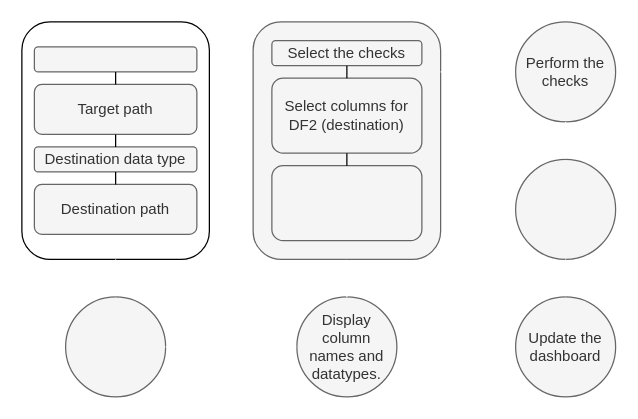
This 638x419 diagram has some shape labels left out. The centre of each missing label's shape, as x and y in pixels:
"Capture the output logs" goes at (565,208).
"Select columns for DF1 (source)" goes at (346,202).
"Tables being processed to DFs" goes at (115,346).
"Target data type" goes at (115,59).
